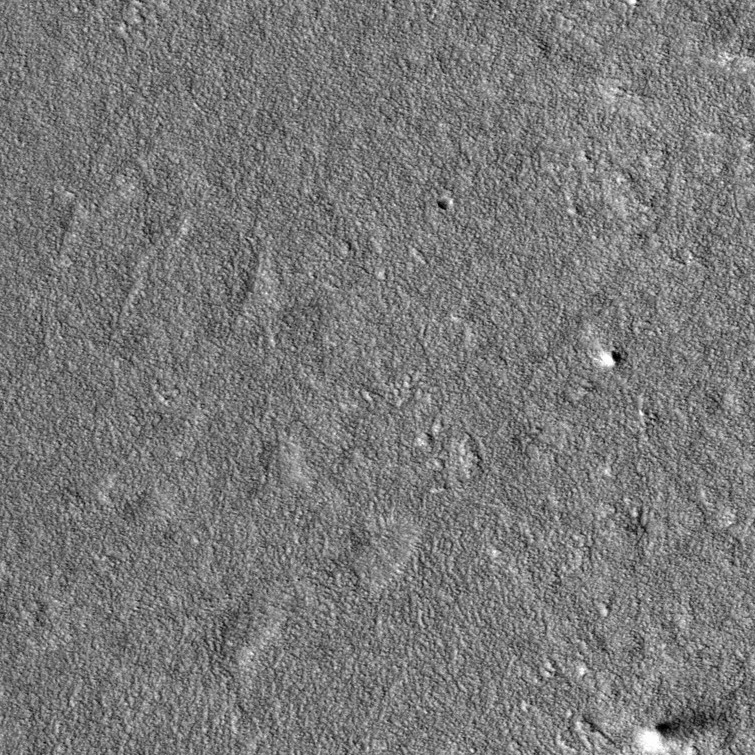dust_devil: (630, 703, 747, 755)
